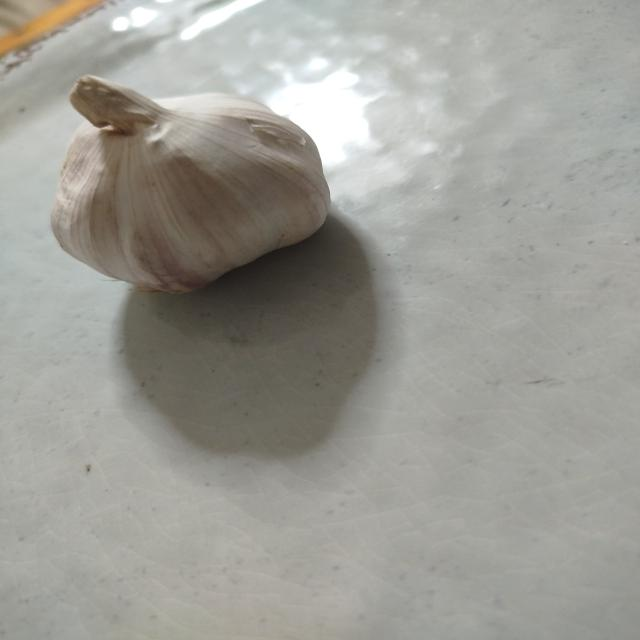garlic: (50, 73, 332, 295)
